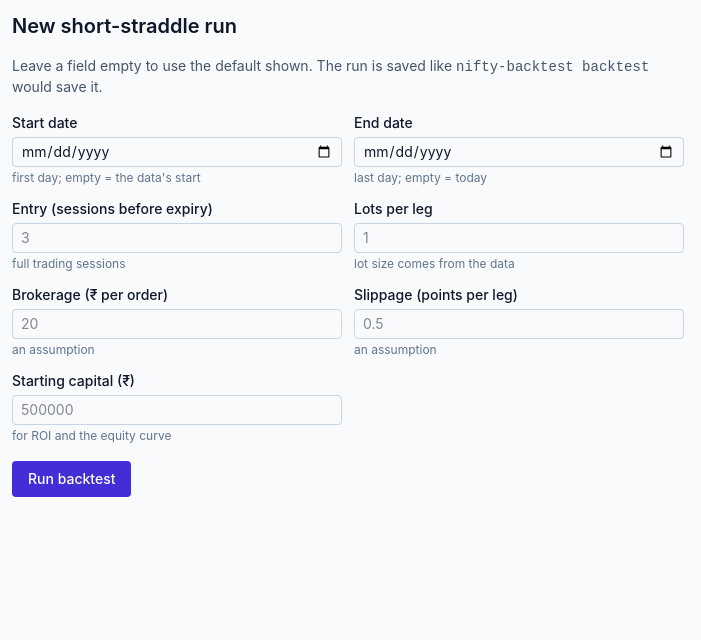
Test: launch form › shows the API's explanation for no market data
The image size is (701, 640).
Click the button "Run backtest": [72, 479] box [12,461,132,497]
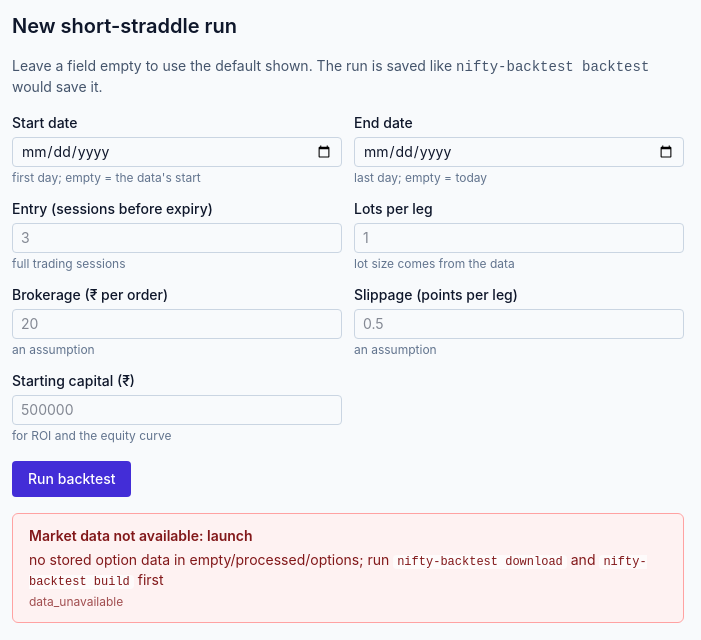
Now the text "nifty-backtest download" is shown, box [393,555,567,569]
